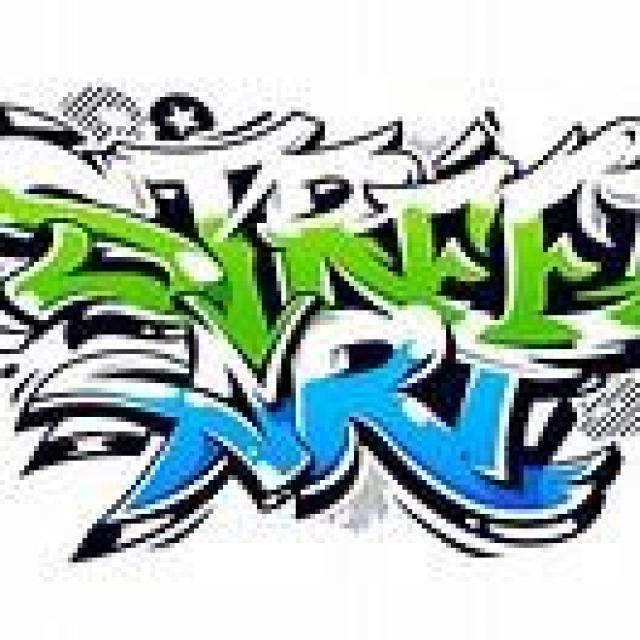nonspitting: (0, 82, 640, 564)
